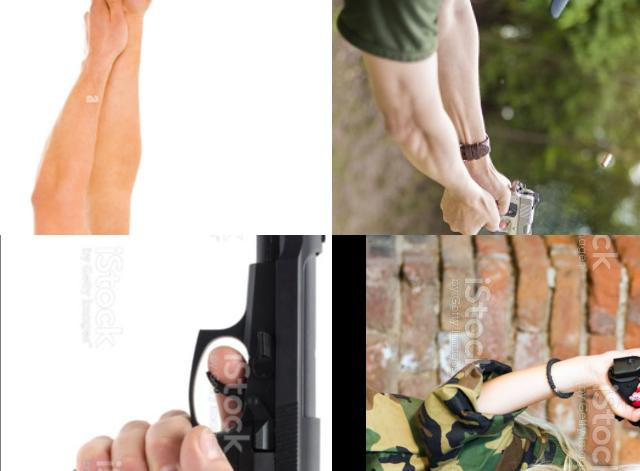handgun: (65, 235, 329, 471), (483, 178, 542, 235), (602, 352, 640, 432), (97, 0, 189, 31)
